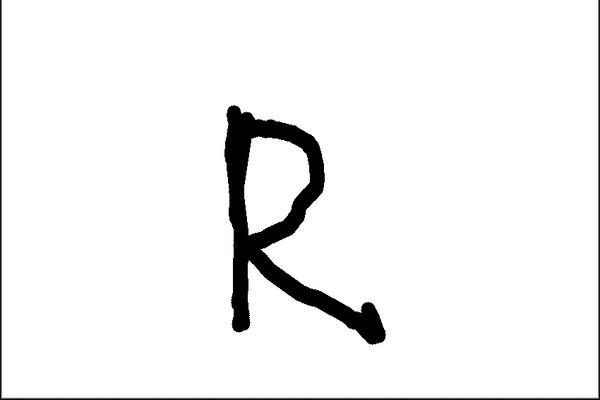R: (212, 90, 394, 355)
